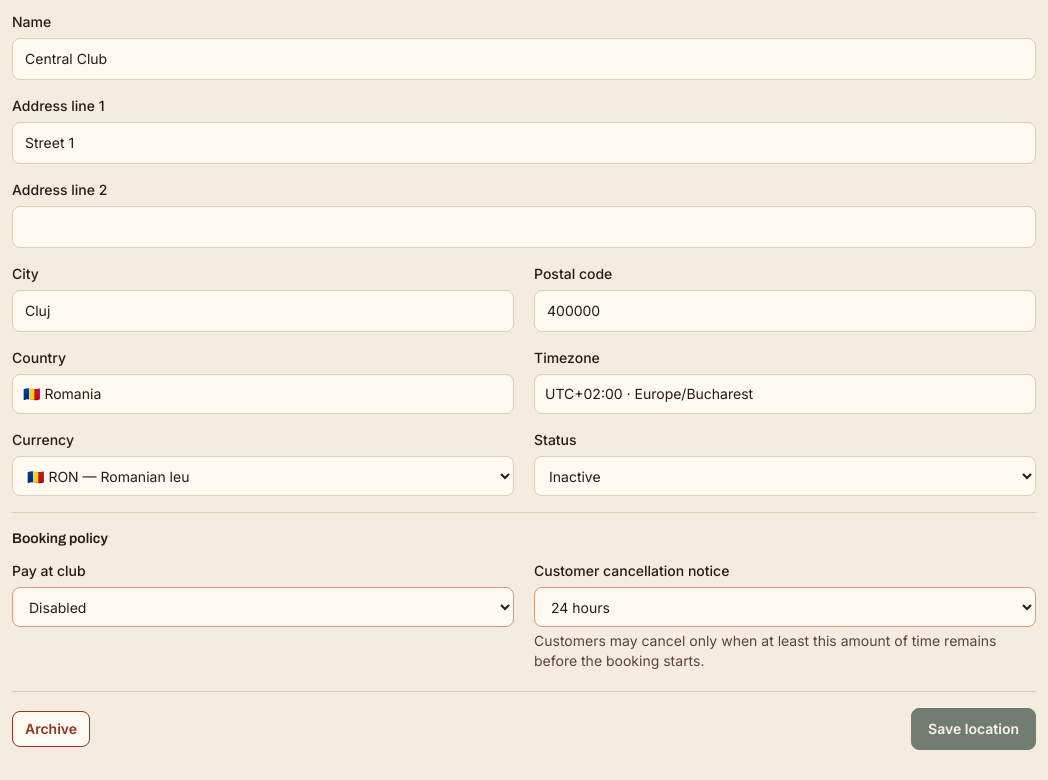
shows inline validation and keeps form values
Replace the text in the dropdown labelled "Timezone" with "paris" at (785, 394), box 534,374 -> 1036,414
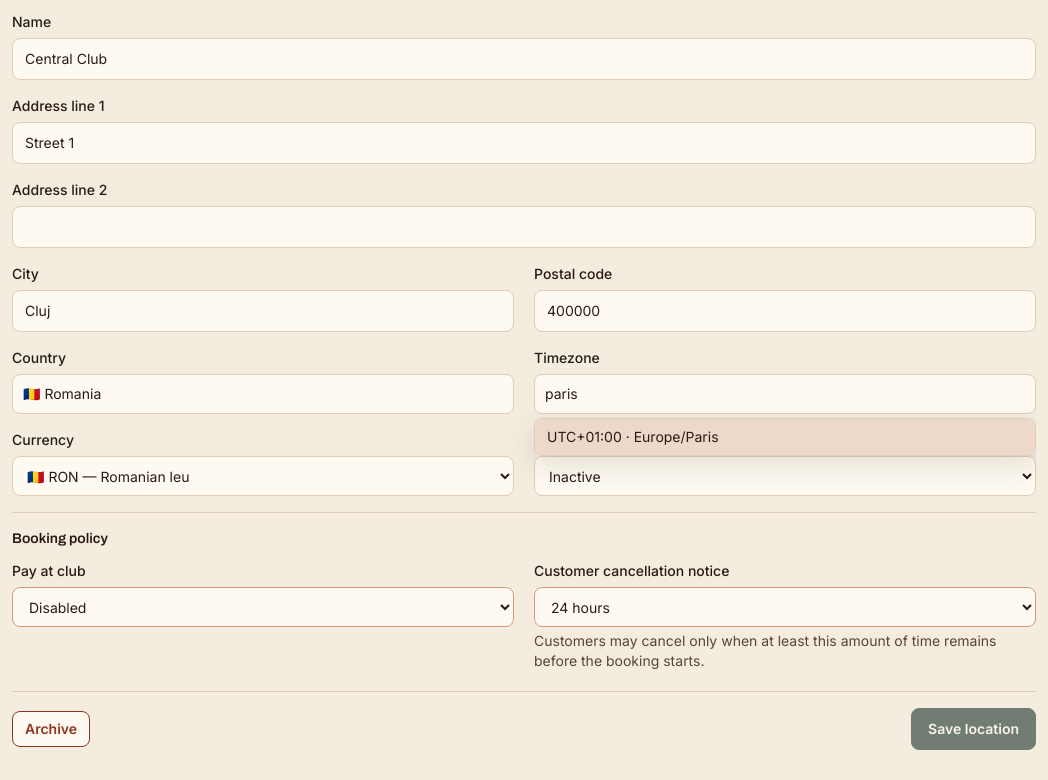
Press Enter in the dropdown labelled "Timezone", box 534,374 -> 1036,414
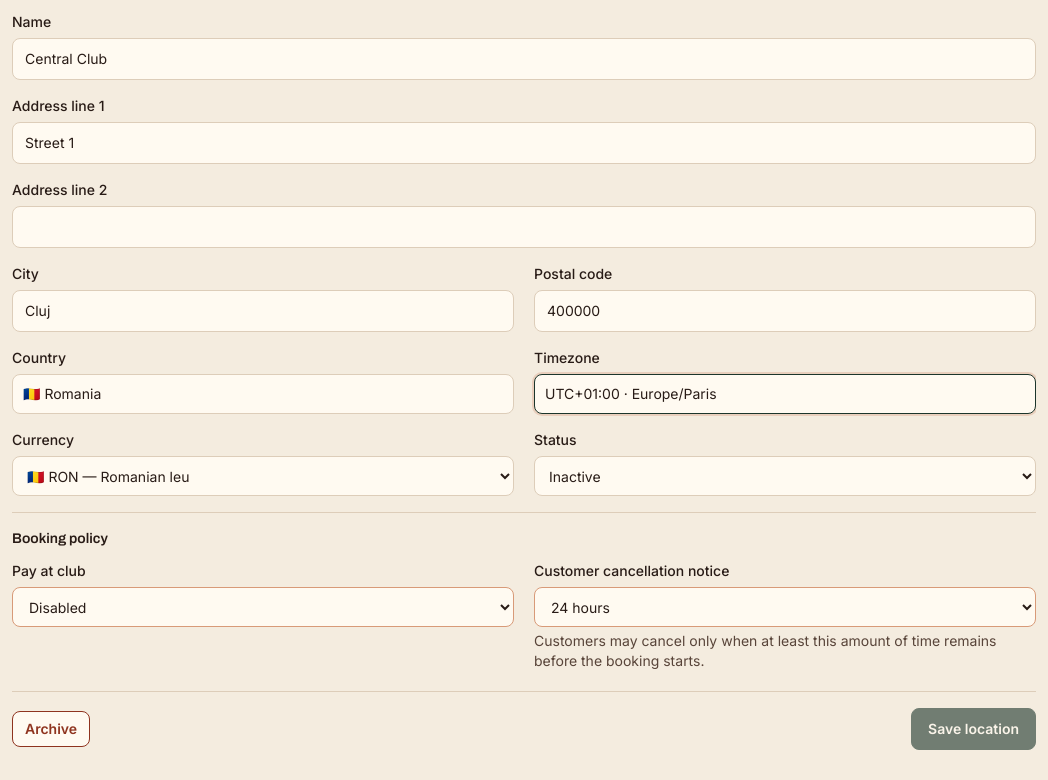
Submit the form named "Save location"
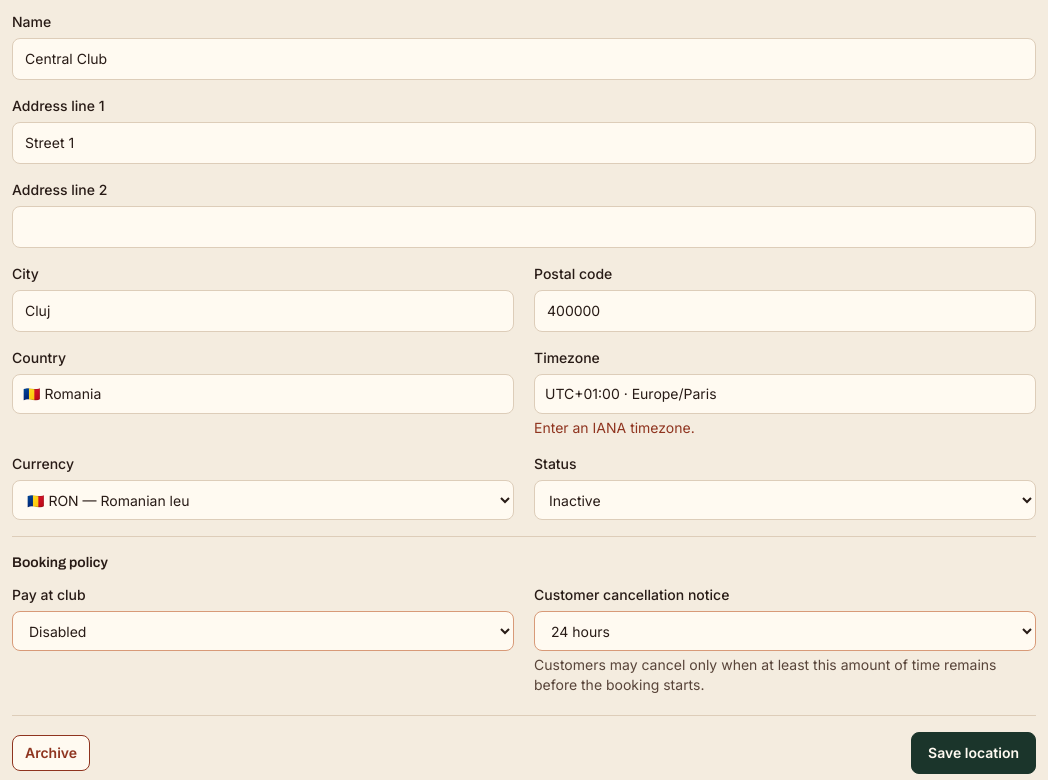
Expected: the text "Enter an IANA timezone." is shown, 534,419 -> 695,436
